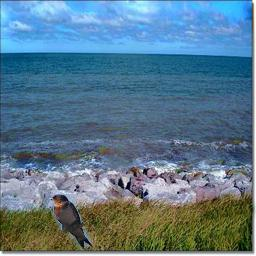Swallow: (49, 194, 92, 249)
